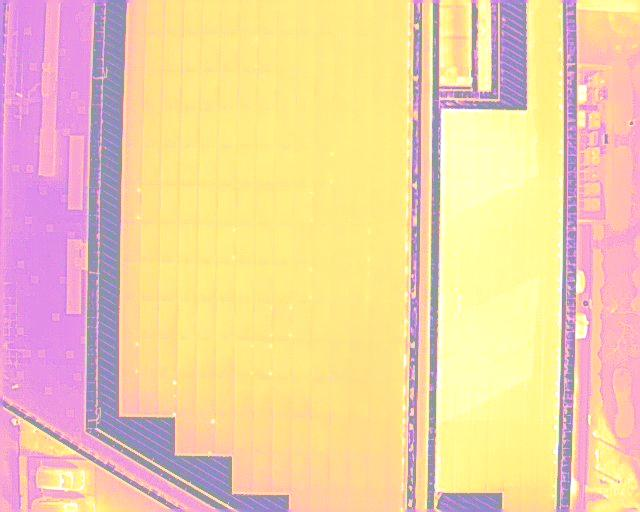Cell-Multi: (239, 32, 260, 73), (313, 148, 334, 187), (217, 223, 237, 263), (293, 187, 314, 225), (293, 263, 314, 301), (197, 416, 217, 455), (274, 302, 294, 341), (353, 223, 372, 263), (255, 301, 274, 341), (255, 339, 274, 378), (158, 376, 177, 415), (123, 184, 142, 222), (235, 340, 254, 378), (122, 338, 140, 377)
No-Anomaly: (314, 224, 335, 265), (201, 32, 222, 73), (333, 148, 354, 188), (163, 68, 183, 109), (293, 301, 313, 342), (349, 300, 369, 341), (144, 31, 165, 70), (293, 224, 314, 263), (315, 72, 336, 111), (235, 301, 256, 340), (348, 380, 369, 419), (365, 418, 387, 455), (219, 70, 239, 110), (238, 186, 258, 226), (179, 223, 199, 263), (182, 31, 202, 71), (277, 71, 297, 111), (177, 414, 197, 454), (158, 300, 178, 340), (273, 377, 293, 417), (365, 455, 386, 493), (257, 72, 278, 110), (349, 341, 370, 379), (234, 417, 255, 455), (346, 419, 368, 455), (256, 186, 276, 225), (143, 70, 163, 109), (160, 185, 180, 224), (311, 418, 331, 457), (278, 33, 298, 72), (259, 33, 279, 72), (316, 34, 336, 73), (335, 34, 355, 73), (236, 224, 256, 263), (218, 147, 238, 186), (372, 109, 392, 148), (162, 108, 182, 147), (219, 109, 239, 148), (178, 262, 198, 301), (236, 263, 256, 302), (217, 263, 237, 302), (177, 340, 197, 379), (215, 377, 235, 416), (235, 378, 255, 417), (273, 417, 293, 456), (275, 146, 294, 187), (313, 301, 332, 342), (197, 338, 216, 379), (314, 187, 335, 224), (314, 111, 335, 148), (239, 70, 258, 110), (200, 71, 220, 109), (179, 185, 199, 223), (141, 223, 160, 263), (333, 224, 352, 264), (354, 34, 374, 72), (220, 34, 240, 72), (352, 148, 371, 188), (257, 146, 276, 186), (160, 147, 180, 185), (335, 72, 355, 110), (296, 71, 315, 111), (276, 110, 296, 148), (334, 109, 354, 147), (197, 301, 217, 339), (330, 302, 350, 340), (158, 339, 178, 377), (139, 339, 159, 377), (196, 378, 216, 416), (254, 377, 273, 417), (312, 378, 331, 418), (181, 71, 200, 110), (218, 185, 237, 224), (160, 223, 179, 262), (254, 417, 273, 456), (292, 417, 311, 456), (374, 33, 393, 72), (238, 147, 257, 186), (199, 147, 218, 186), (294, 148, 313, 187), (200, 109, 219, 148), (255, 263, 274, 302), (274, 263, 293, 302), (178, 301, 197, 340), (273, 455, 293, 492), (329, 419, 349, 456), (257, 110, 277, 147), (143, 109, 163, 146), (371, 148, 389, 189), (199, 185, 218, 223), (142, 185, 161, 223), (163, 31, 182, 69), (126, 32, 145, 70), (297, 35, 316, 73), (124, 146, 143, 184), (142, 146, 161, 184), (181, 147, 200, 185), (374, 72, 393, 110), (239, 109, 258, 147), (181, 109, 200, 147), (124, 108, 143, 146), (160, 262, 179, 300), (141, 263, 160, 301), (140, 301, 159, 339), (216, 340, 235, 378), (330, 341, 349, 379), (274, 340, 293, 378), (177, 378, 196, 416), (139, 376, 158, 414), (199, 223, 217, 263), (388, 224, 406, 264), (235, 456, 255, 492), (293, 378, 311, 418), (256, 225, 275, 262), (354, 72, 373, 109), (295, 111, 314, 148), (313, 264, 332, 301), (312, 343, 331, 380), (275, 186, 293, 225), (126, 69, 144, 108), (371, 224, 389, 263), (388, 148, 406, 187), (354, 108, 372, 147), (122, 261, 140, 300), (386, 300, 404, 339), (368, 380, 386, 419), (239, 0, 260, 33), (335, 187, 354, 223), (292, 456, 311, 492), (275, 224, 293, 262), (384, 456, 403, 492), (311, 457, 330, 493), (199, 263, 217, 301), (368, 341, 386, 379), (385, 379, 403, 417), (297, 0, 317, 34), (124, 223, 141, 263), (350, 264, 370, 298), (369, 300, 386, 340), (330, 456, 348, 493), (217, 302, 235, 339), (293, 340, 311, 377), (371, 188, 390, 223), (383, 419, 402, 454), (349, 455, 366, 494), (123, 299, 140, 338), (331, 380, 348, 419), (216, 416, 233, 455), (259, 0, 279, 33), (254, 455, 272, 491), (353, 188, 372, 222), (336, 0, 355, 34), (386, 341, 403, 379), (122, 376, 139, 414), (183, 0, 202, 33), (278, 0, 297, 33), (374, 0, 393, 33), (317, 0, 335, 34), (355, 0, 373, 34), (387, 264, 405, 298), (370, 265, 388, 299), (333, 265, 350, 301), (392, 34, 408, 72), (202, 0, 221, 32), (146, 0, 165, 32), (221, 0, 239, 33), (392, 110, 407, 149), (390, 188, 406, 224), (165, 0, 183, 32), (128, 0, 146, 32), (392, 0, 409, 33), (393, 73, 407, 108)
